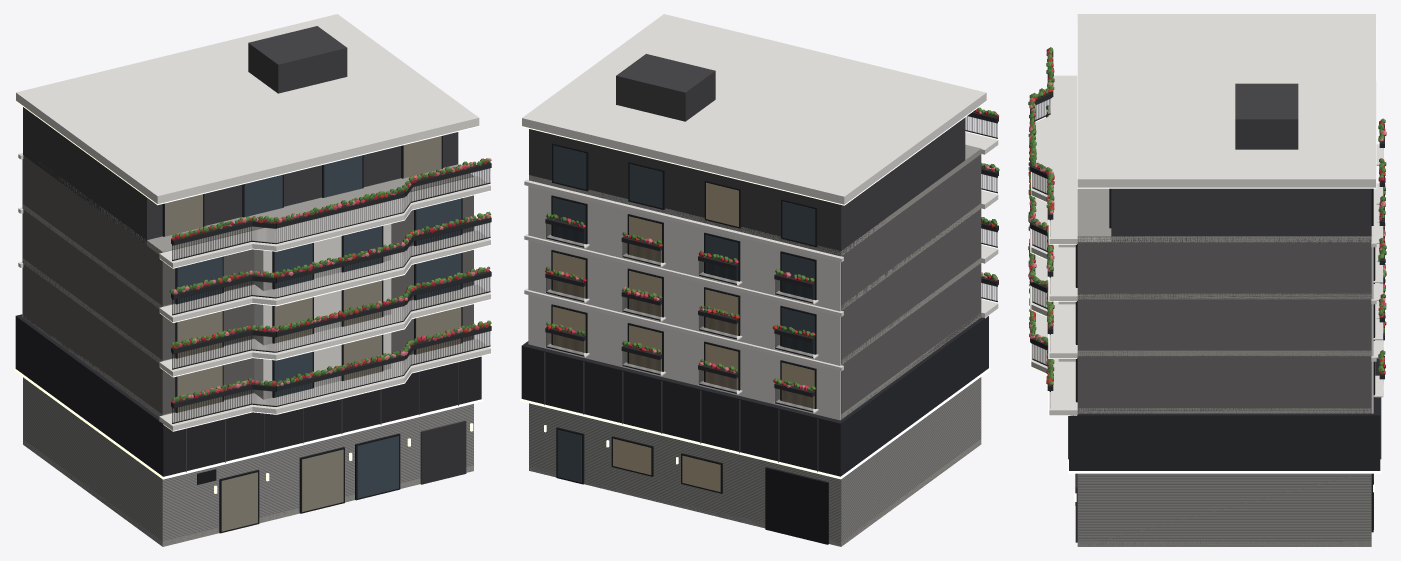
File: zgrada.glb
The picture shows the model from 3 angles, left to right: view 1: azimuth 30°, elevation 25°; view 2: azimuth 150°, elevation 25°; view 3: azimuth 270°, elevation 25°; orthographic projection. The views are drawn at different scales.
Size of the model in its own units: 18.62 by 21.05 by 17.05.
Materials: 34 (3 with a texture image).
